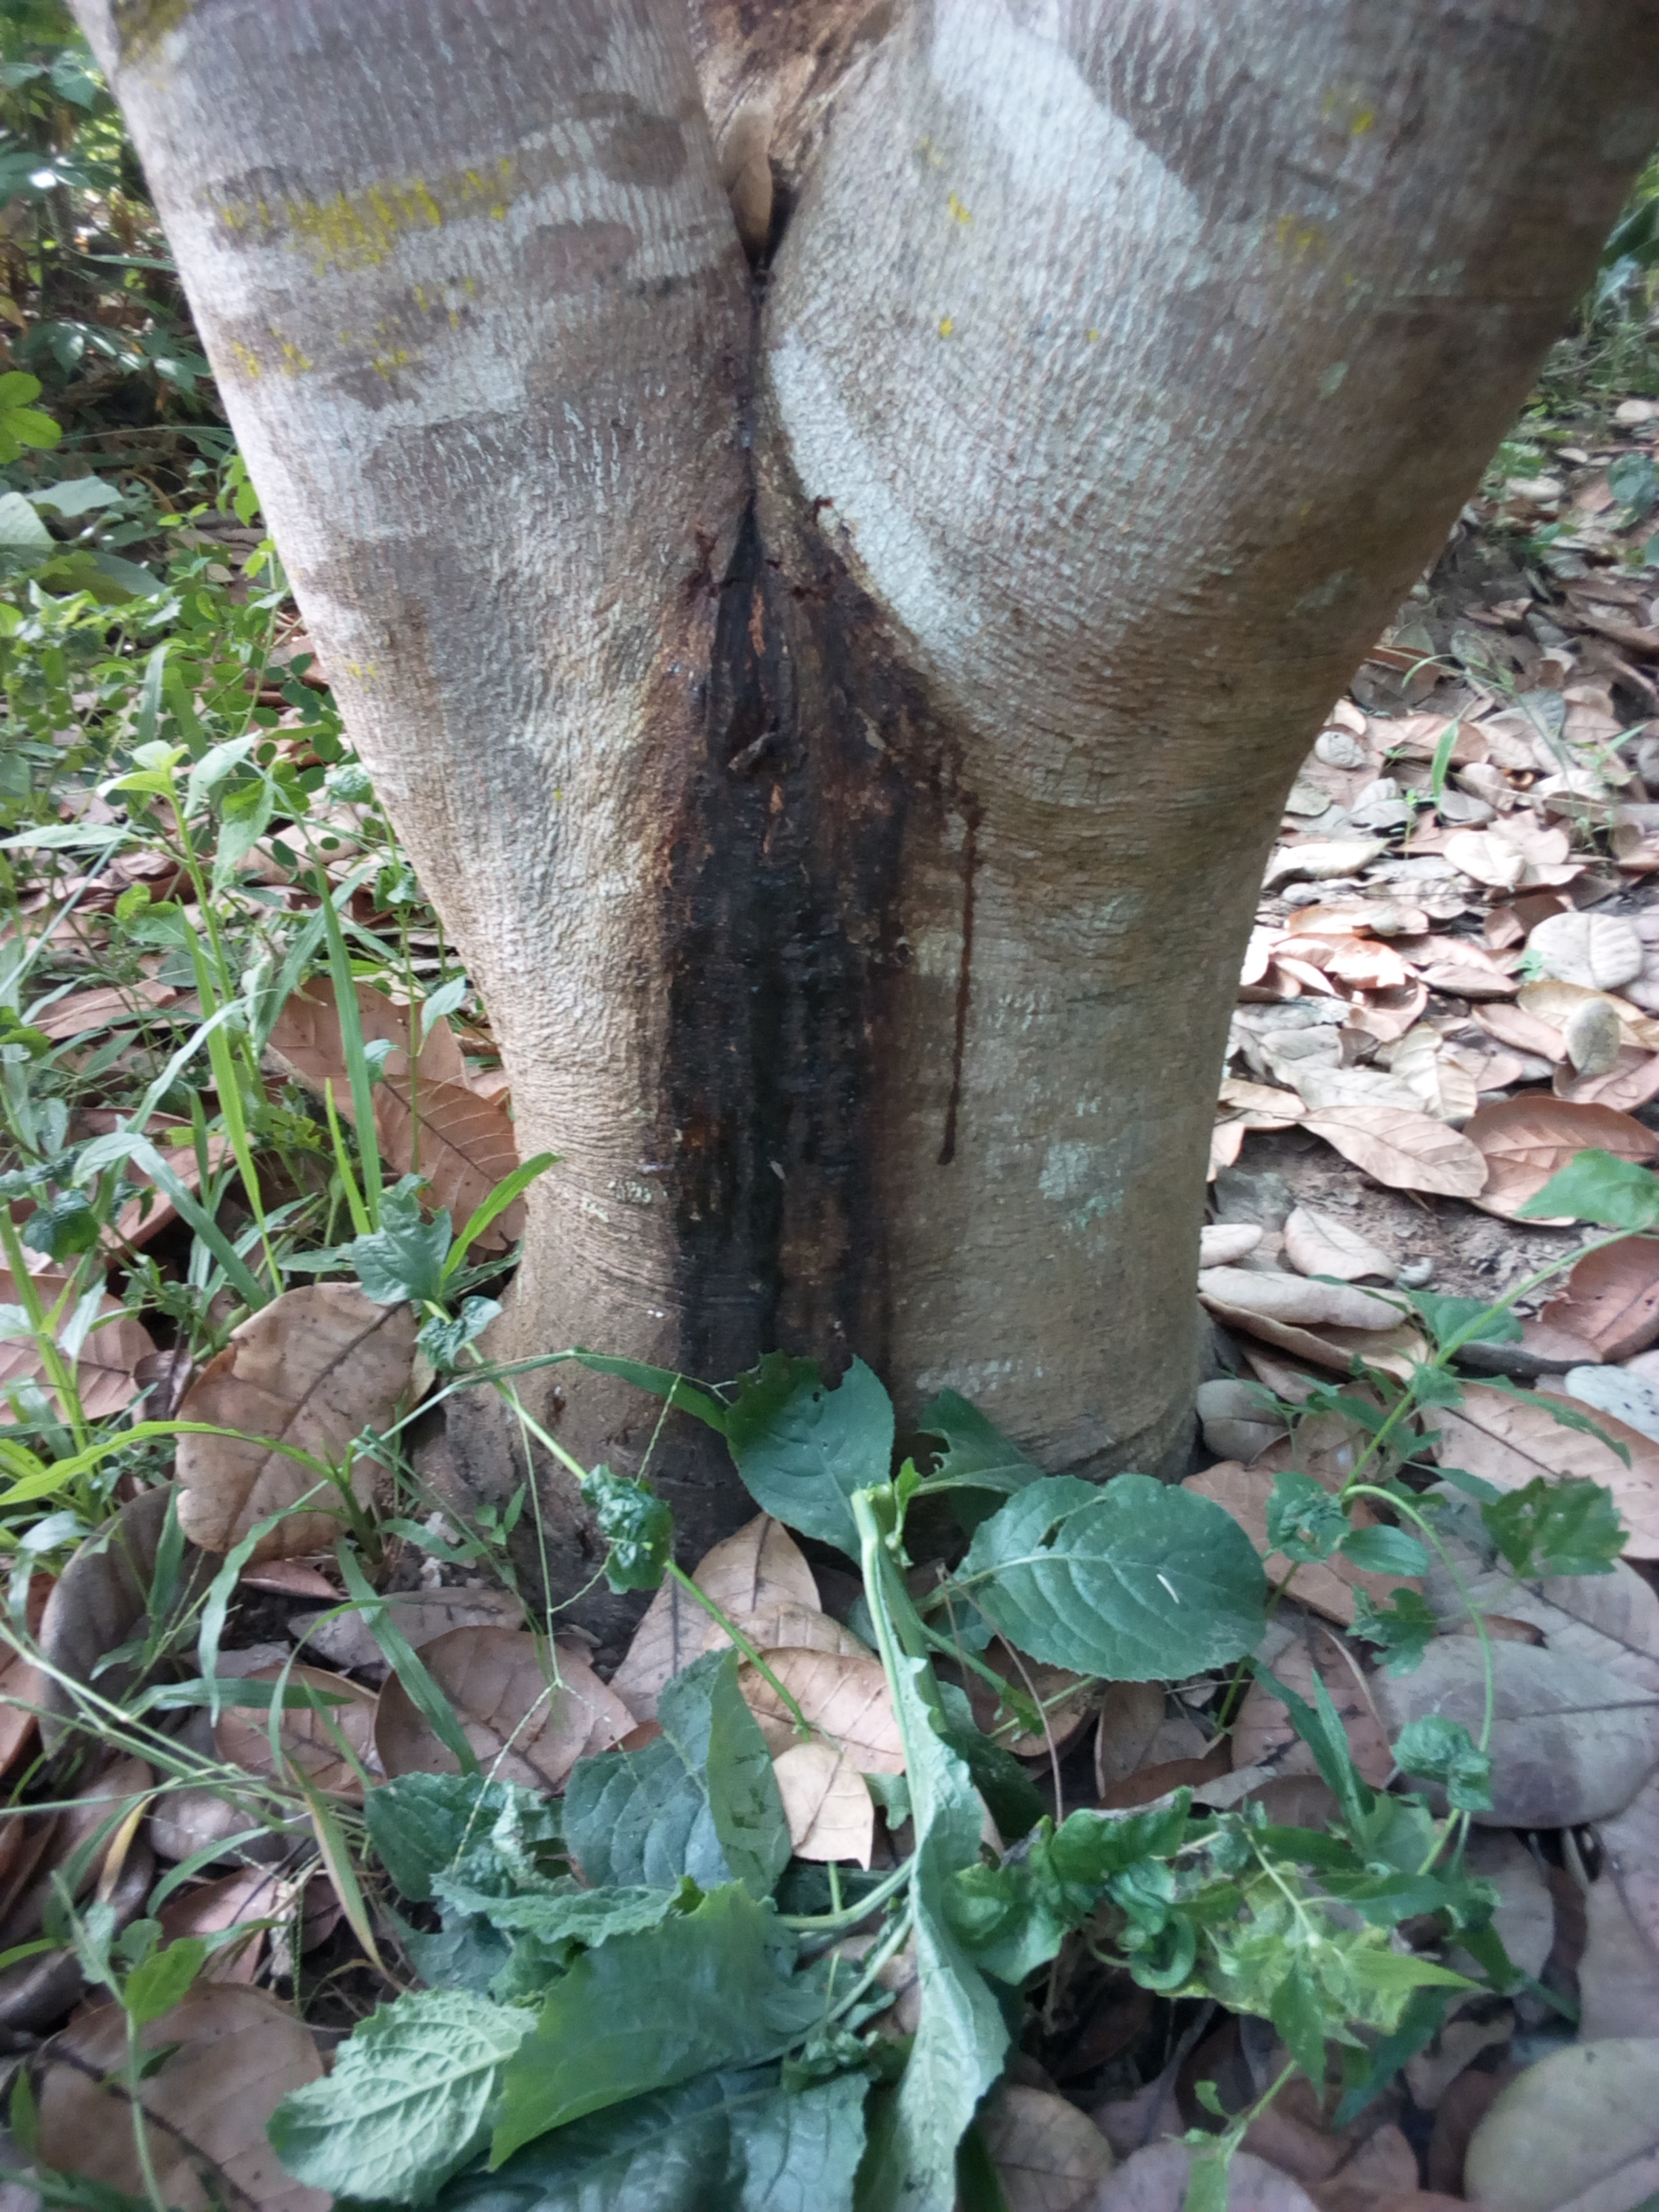Gommose: (653, 564, 934, 1407)
